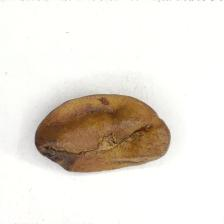NG: (40, 109, 150, 172)
